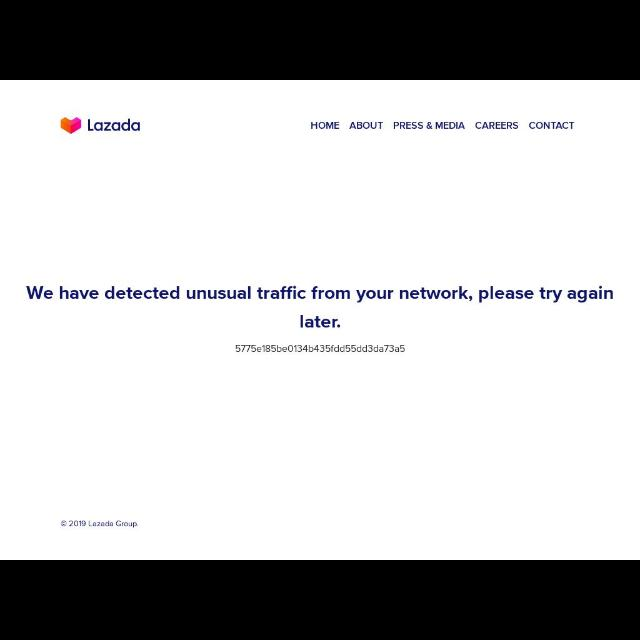image: (60, 118, 82, 134)
text: (25, 286, 615, 330), (235, 346, 405, 352), (60, 520, 138, 530), (392, 121, 466, 131), (88, 118, 140, 132), (530, 120, 576, 130), (474, 120, 518, 130), (308, 119, 339, 131), (351, 122, 384, 130)
